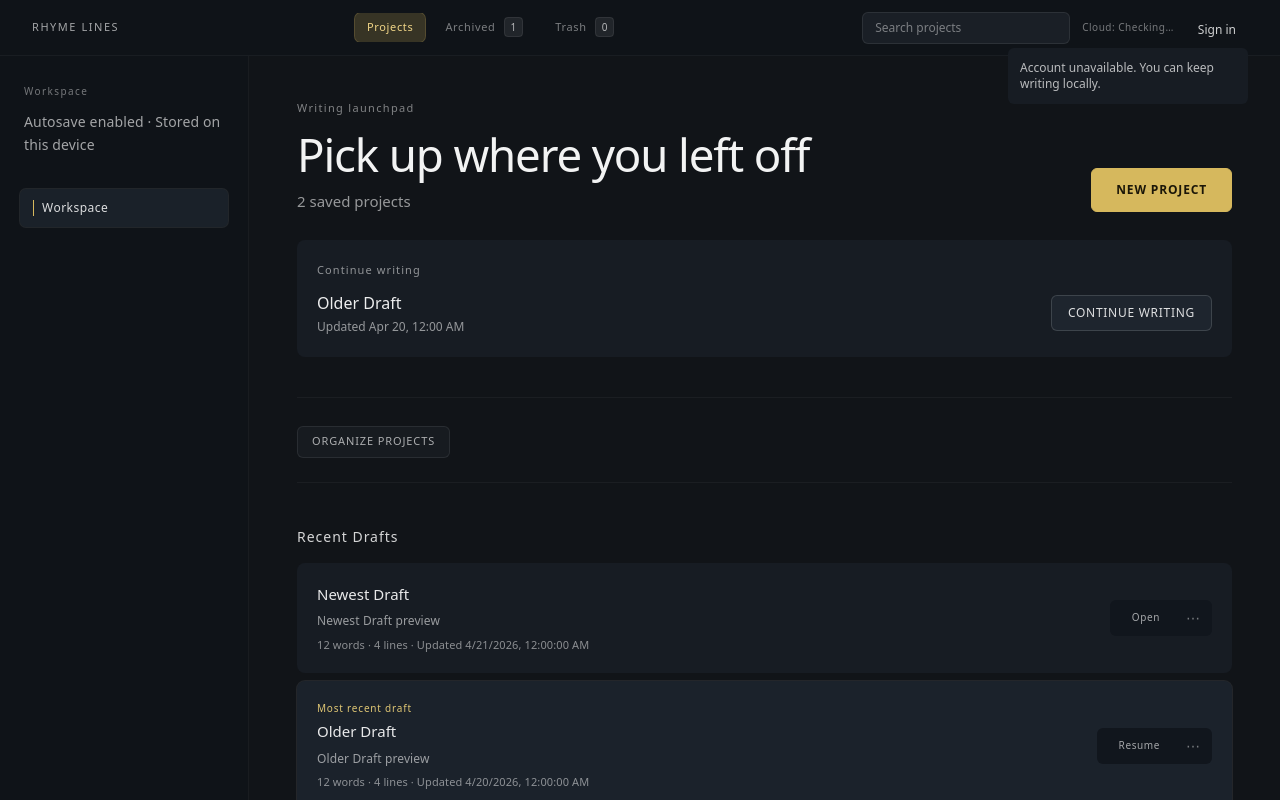
Test: DashboardShell › keeps projects/archived view toggles working
Expected: the heading "Recent Drafts" is shown, [297,527,398,547]
Click the button "Archived1" at (484, 28), box [433,13,535,42]
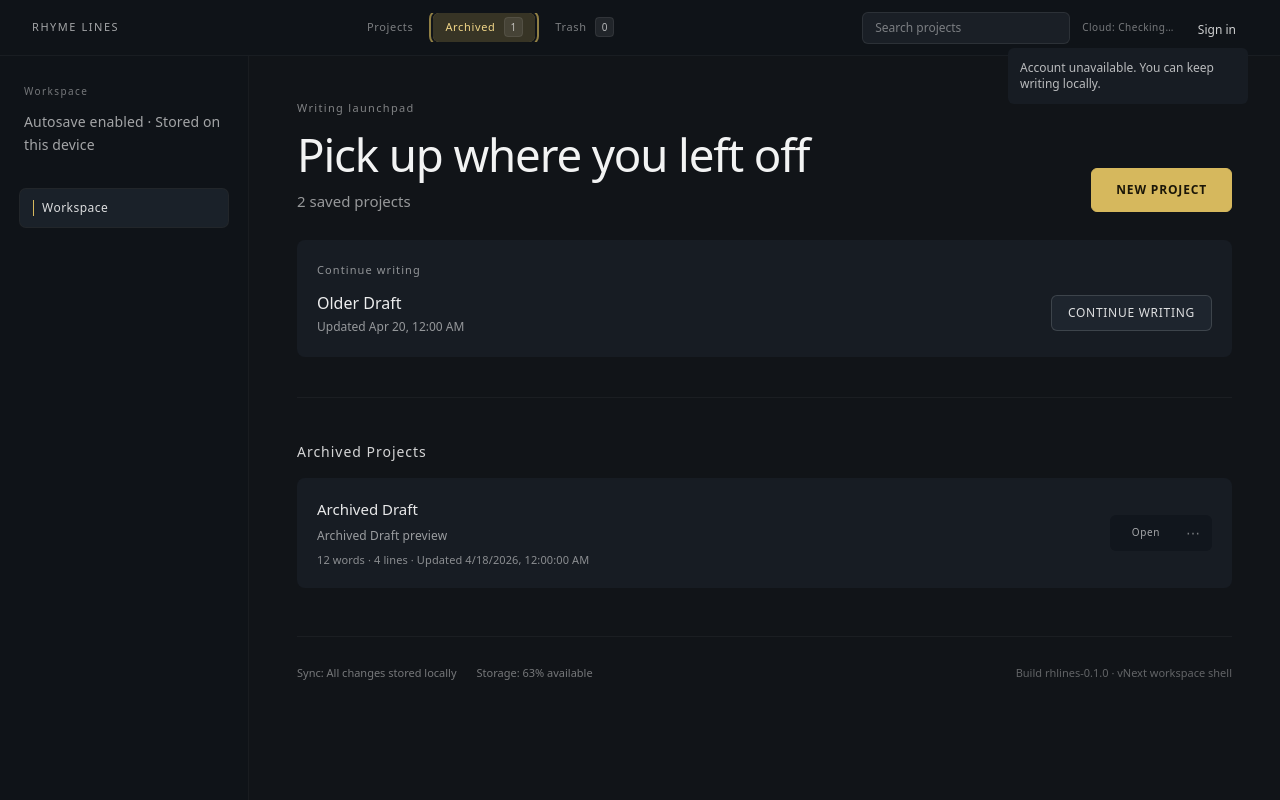
Now the heading "Archived Projects" is shown, box [297,442,427,462]
Now the text "Archived Draft" is shown, box [317,499,418,519]
Click the button "Projects" at (390, 28), box [355,13,425,42]
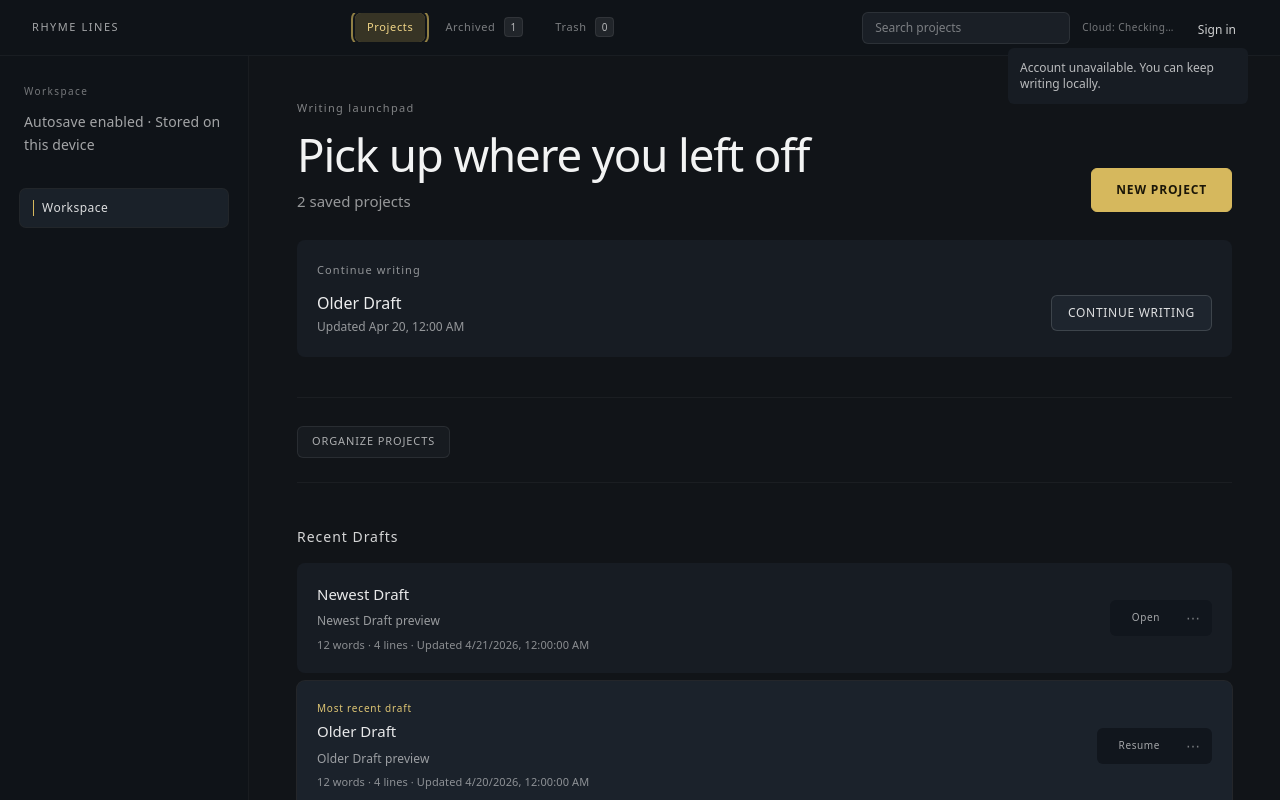
Now the heading "Recent Drafts" is shown, box [297,527,398,547]
Now the text "Newest Draft" is shown, box [317,584,409,604]
